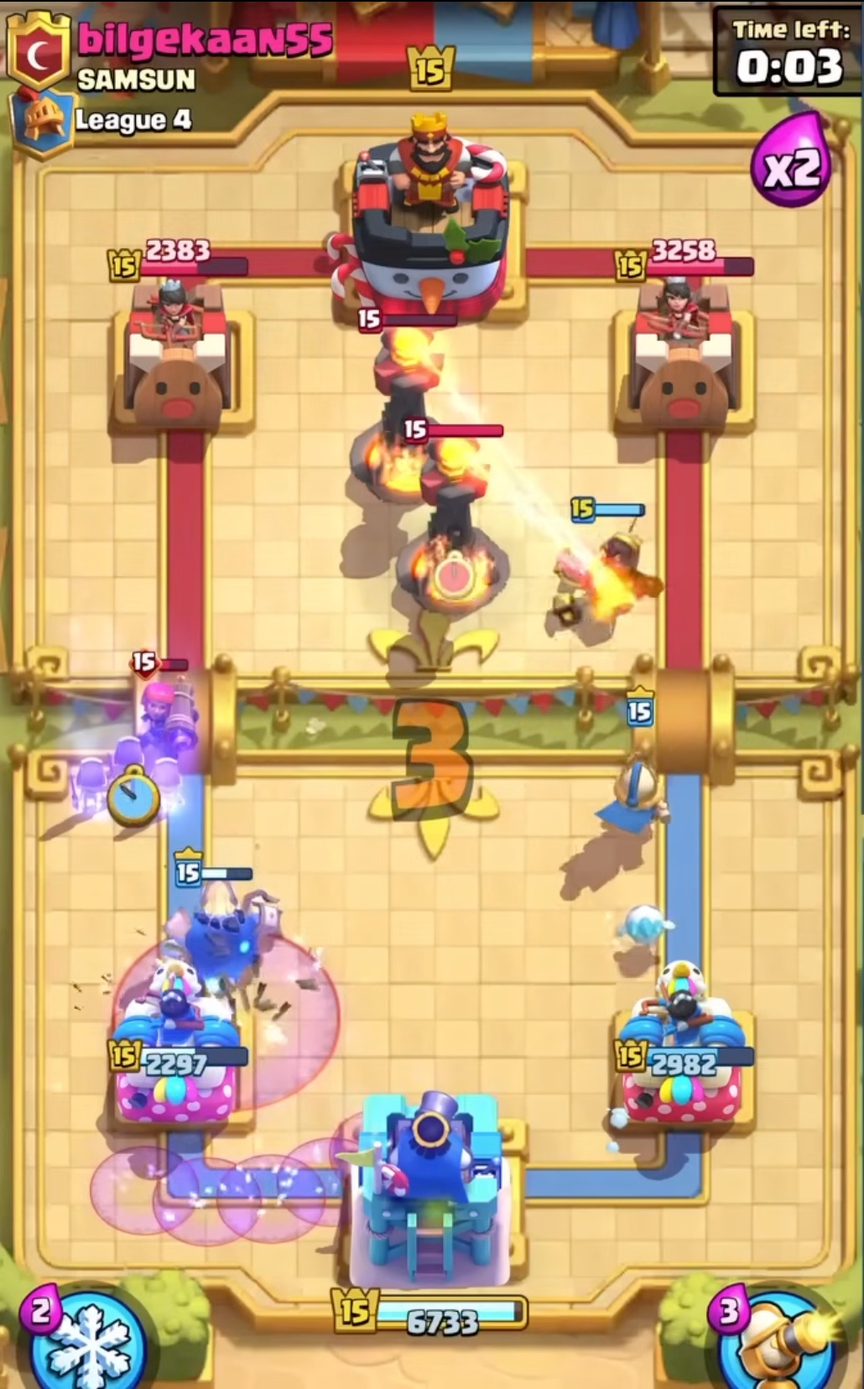evo-skeleton: (64, 749, 114, 818), (147, 757, 190, 820), (109, 732, 148, 793)
hero-ice-golem: (150, 849, 297, 1018)
hero-musketeer: (588, 679, 674, 850)
hog-rider: (552, 494, 666, 634)
ice-spirit: (600, 894, 680, 959)
